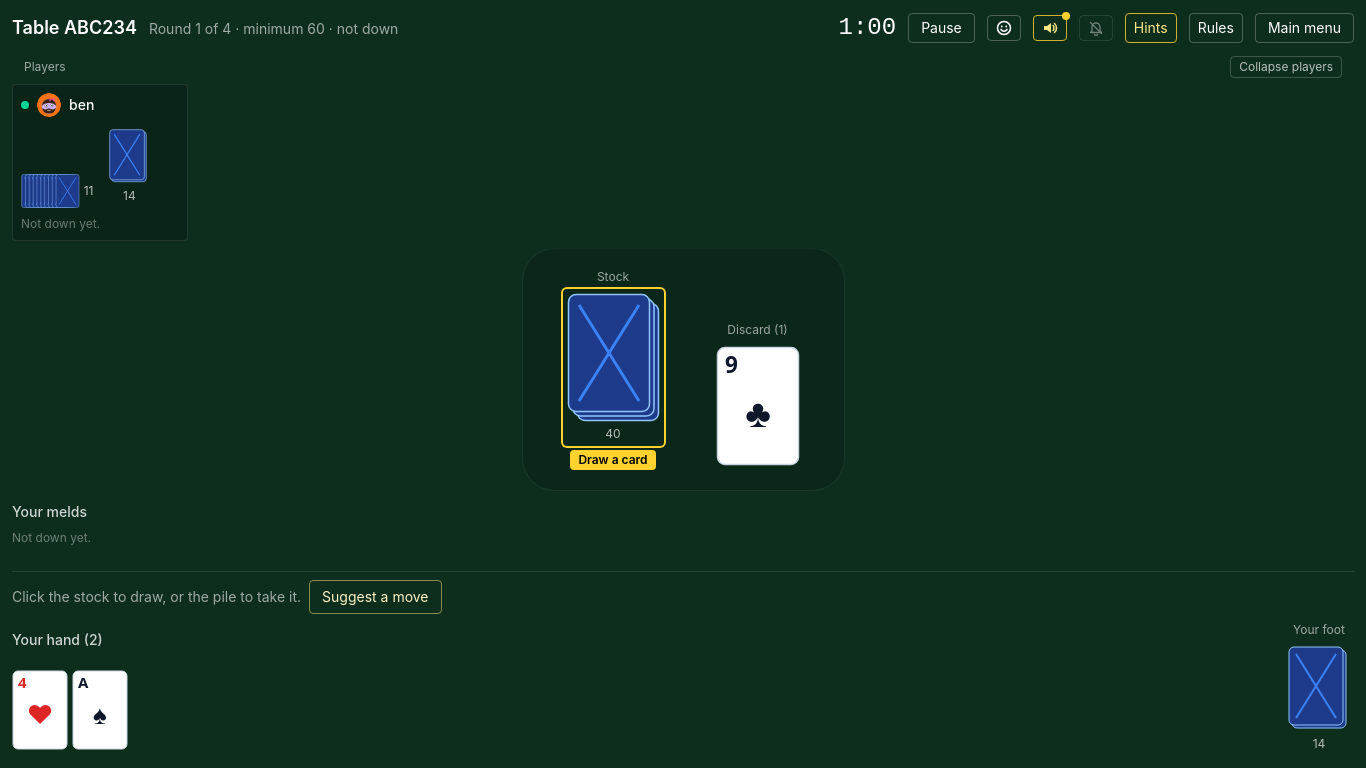
Test: taking a turn › surfaces a refused move verbatim
Click the button named "draw a card": (613, 368) [562,289,664,446]
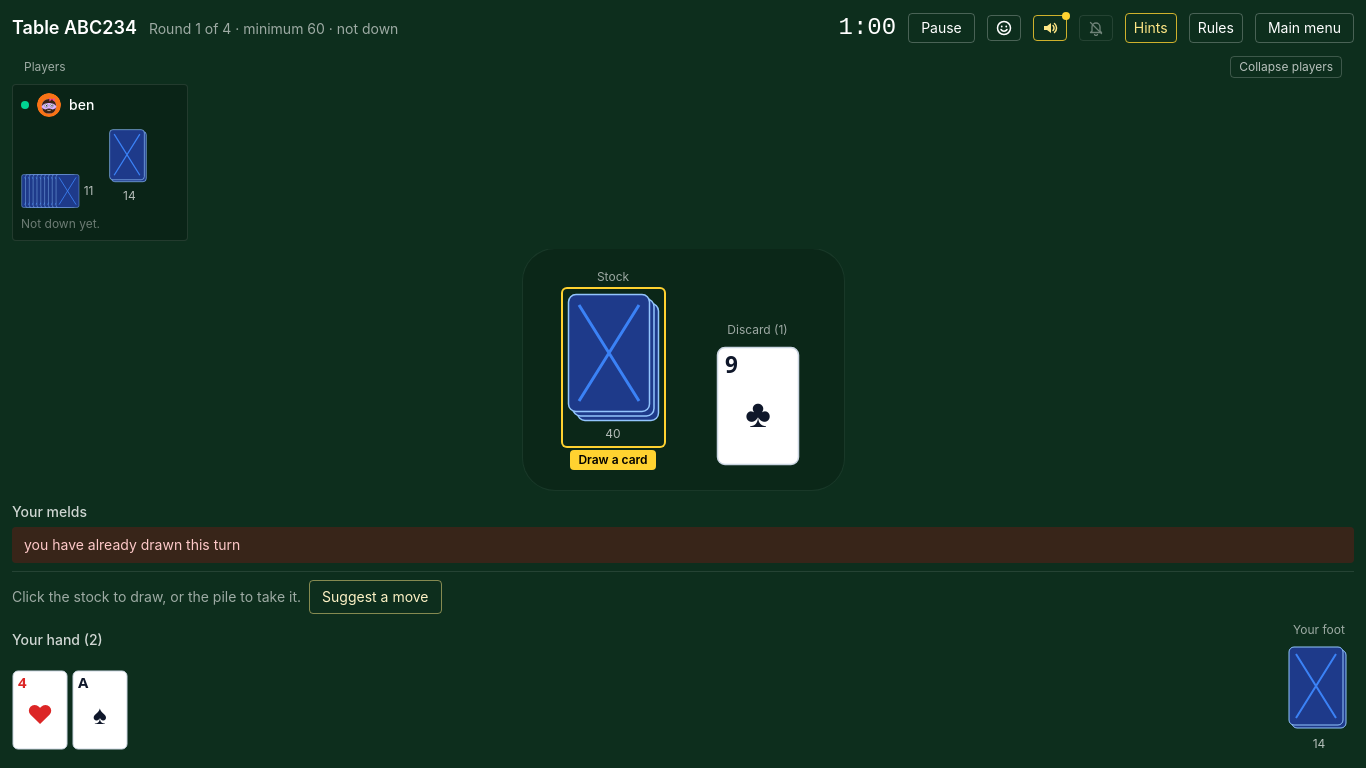
Result: the message shows "already drawn this turn" at [24,536,240,553]
